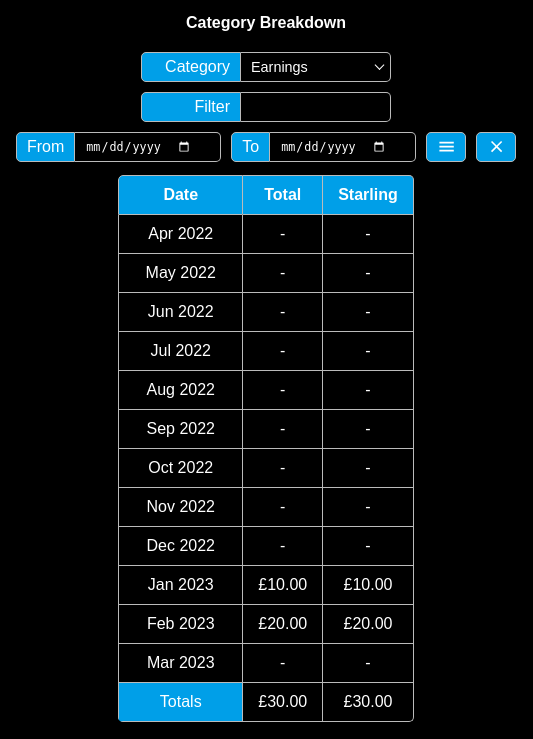
Test: Filters transactions if a filter is used
expect the text "£10.00" is shown 2 times: met, box x1=243 y1=566 x2=323 y2=605; x1=323 y1=566 x2=414 y2=605
Type "test" into the field labelled "Filter".
click(316, 107); type("test")  # box x1=241 y1=92 x2=391 y2=122
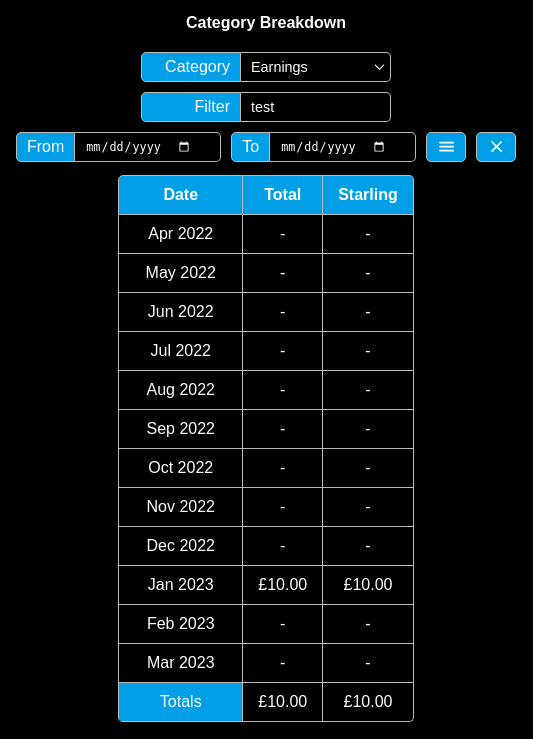
expect the text "£10.00" is shown 4 times: met, box x1=243 y1=566 x2=323 y2=605; x1=323 y1=566 x2=414 y2=605; x1=243 y1=683 x2=323 y2=722; x1=323 y1=683 x2=414 y2=722
expect the text "£20.00" is gone: met
